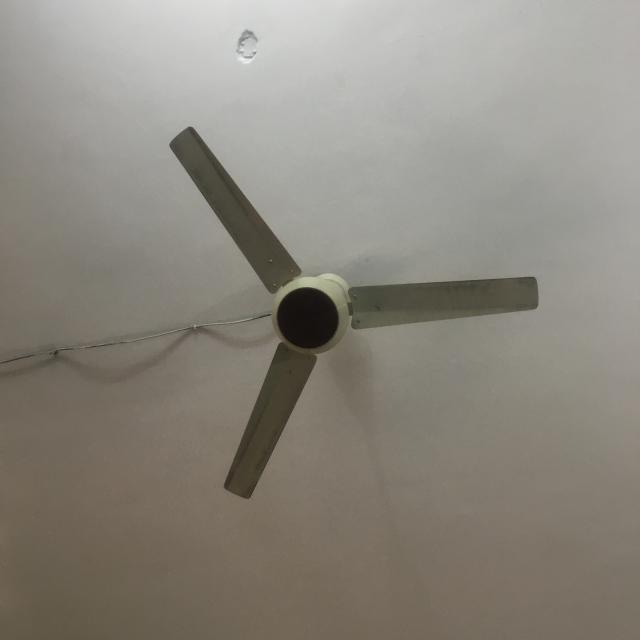off: (163, 120, 548, 502)
